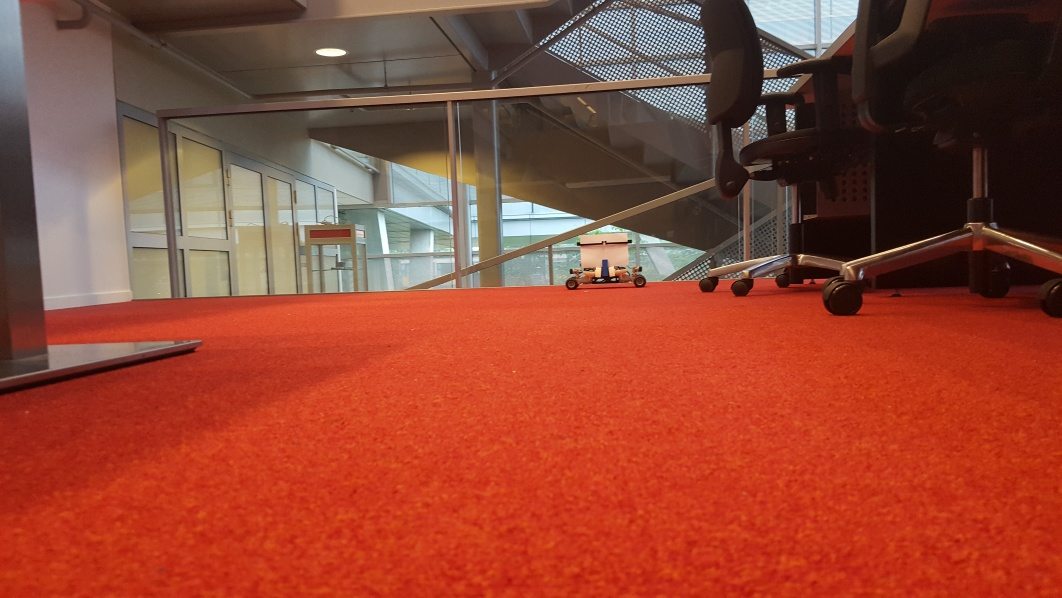car: (565, 230, 646, 293)
